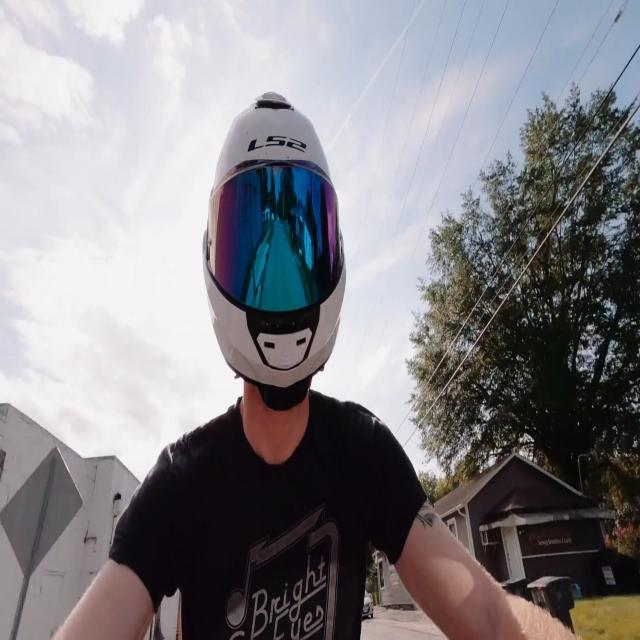Helmet_Wearer: (200, 74, 348, 461)
Person: (54, 67, 512, 640)
